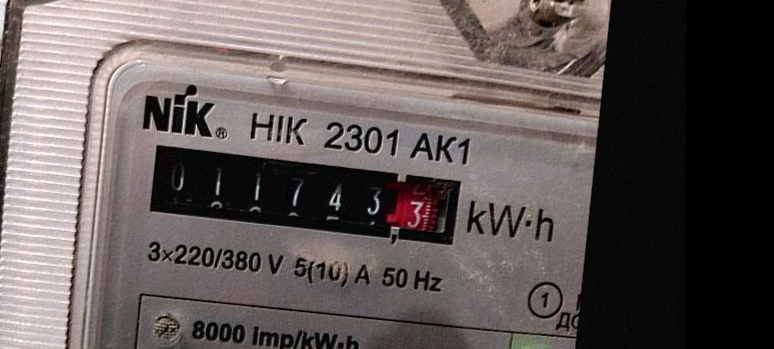0: (166, 157, 188, 195)
1: (248, 167, 267, 202), (211, 163, 225, 197)
3: (361, 182, 384, 218), (404, 198, 425, 233)
4: (324, 178, 345, 213)
7: (286, 173, 307, 208)
screen: (133, 131, 475, 259)
